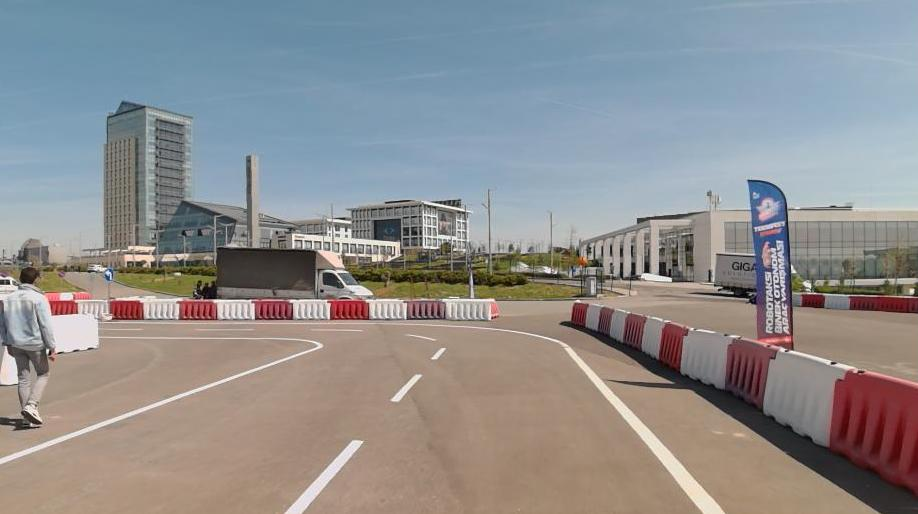nesne: (0, 318, 725, 510), (99, 318, 725, 511), (99, 321, 726, 513), (0, 326, 446, 513), (1, 335, 322, 463), (830, 367, 916, 492), (0, 265, 58, 429), (761, 346, 849, 447), (216, 246, 376, 297), (284, 440, 363, 513), (725, 337, 776, 408), (681, 329, 735, 388), (714, 253, 756, 297), (54, 315, 100, 352), (660, 322, 687, 370), (850, 295, 918, 313), (442, 298, 492, 321), (642, 316, 666, 358), (403, 298, 444, 320), (391, 373, 422, 402), (368, 298, 407, 319), (289, 299, 328, 319), (328, 300, 369, 319), (252, 299, 290, 318), (141, 298, 177, 318), (623, 312, 642, 349), (177, 300, 216, 318), (214, 299, 252, 317), (111, 298, 141, 318), (75, 300, 109, 316), (610, 309, 626, 342), (598, 305, 612, 336), (584, 303, 600, 330), (821, 294, 849, 309), (571, 301, 587, 325), (50, 301, 76, 314), (311, 327, 365, 332), (802, 293, 822, 306), (194, 327, 257, 331), (407, 333, 435, 341), (431, 347, 446, 359), (103, 267, 114, 282), (73, 292, 91, 300), (791, 292, 801, 306), (100, 327, 142, 330), (47, 292, 60, 301), (61, 292, 73, 301)
